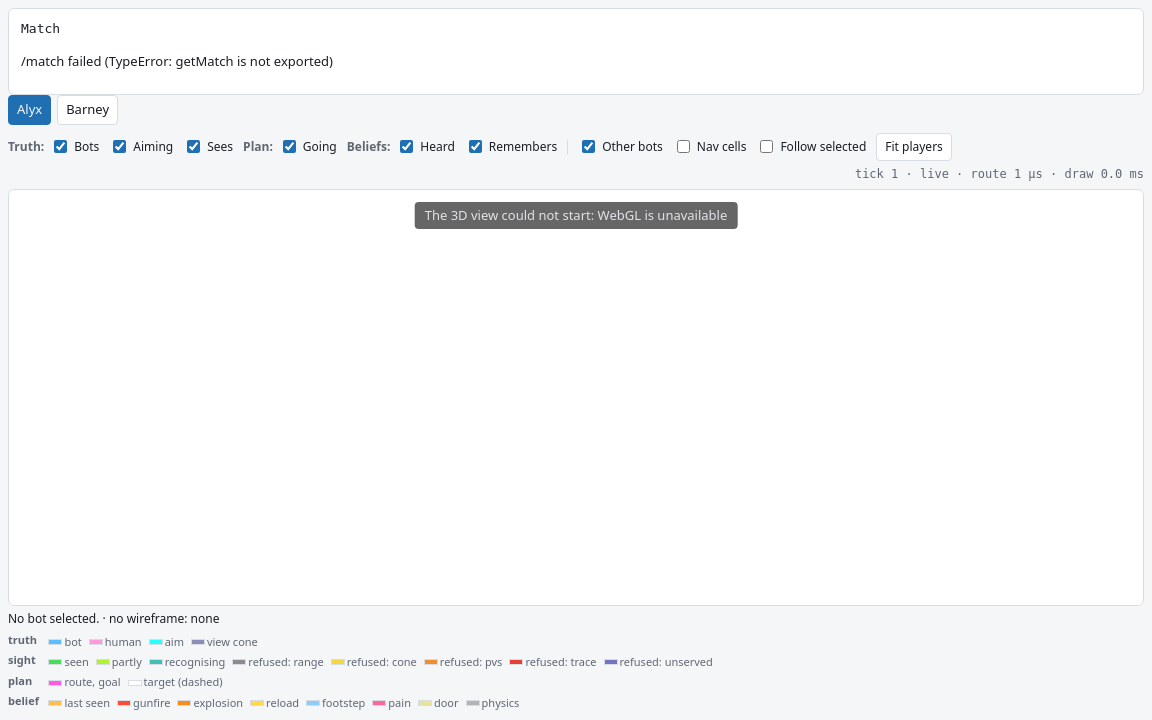
Test: moves to the first bot when the chosen one has left
The width and height of the screenshot is (1152, 720).
Click the button "Barney" at (88, 110), box [57,95,118,124]
Wait 2050 ms
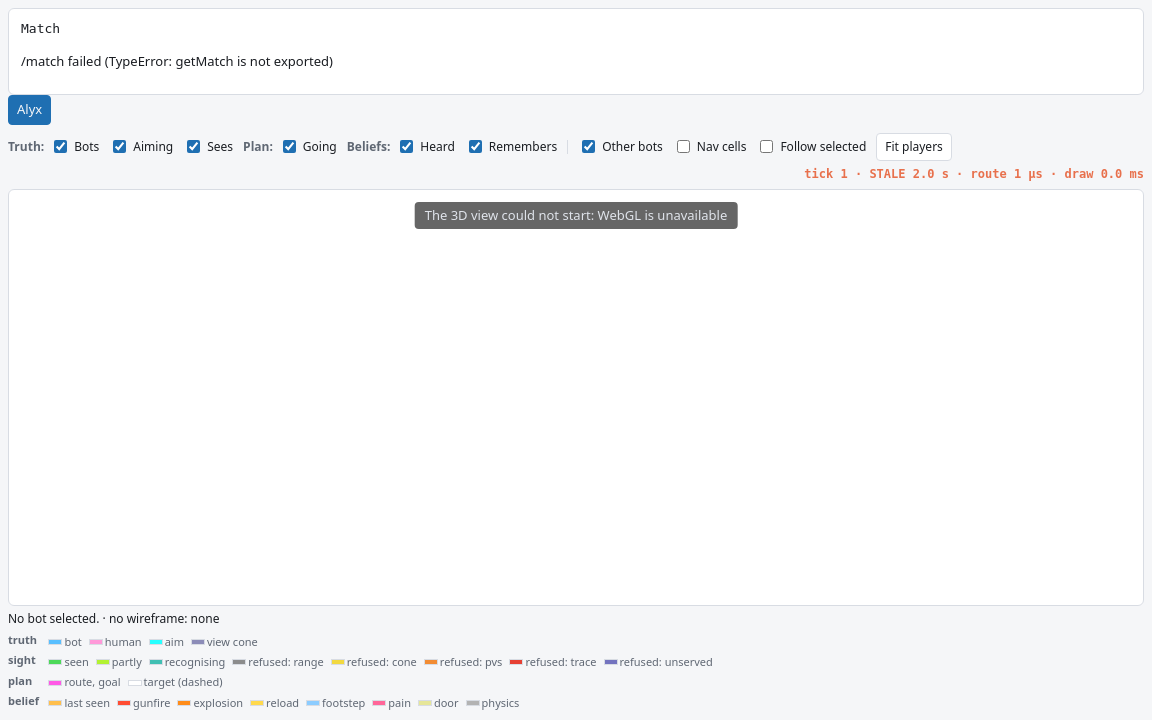
Now the button "Barney" is gone
